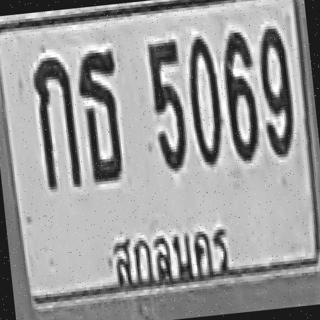A01: (29, 53, 81, 190)
A24: (74, 48, 127, 183)
N00: (183, 34, 226, 167)
N05: (146, 39, 190, 172)
N06: (219, 29, 262, 162)
N09: (256, 25, 296, 158)
P56: (104, 213, 236, 290)
